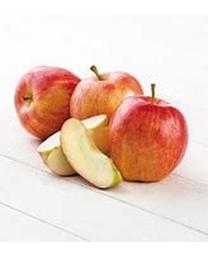apple: (106, 94, 190, 184), (14, 63, 82, 141), (36, 113, 108, 177), (70, 67, 145, 125), (61, 119, 123, 189)
